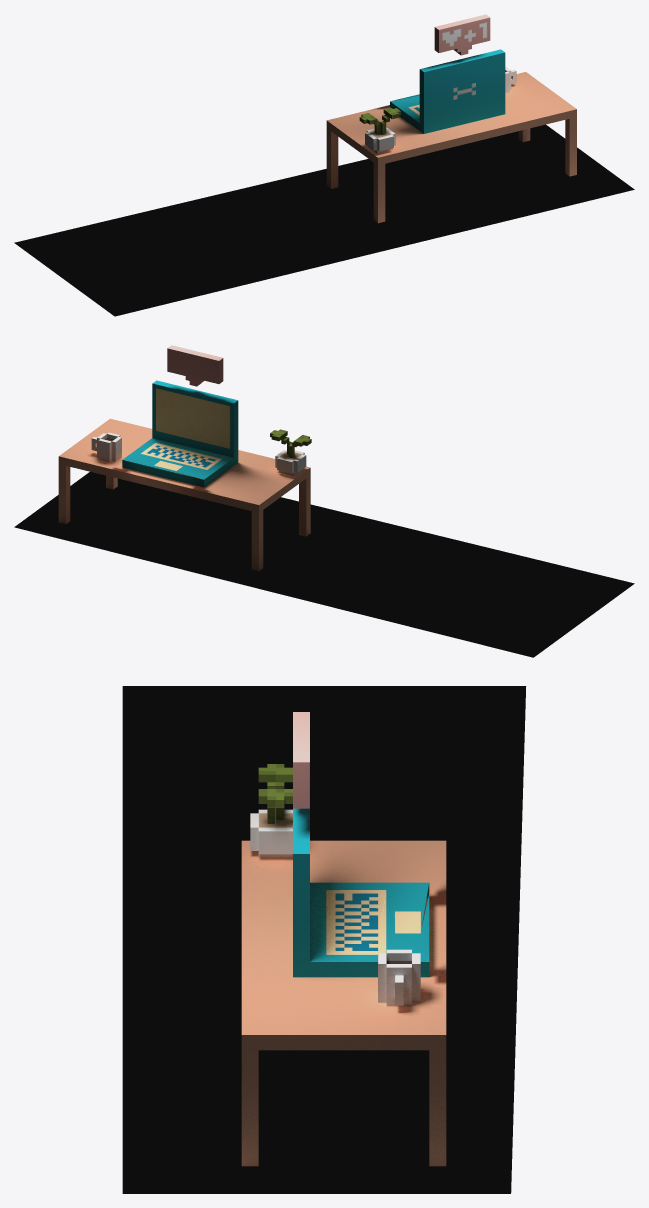
Rendered from ship.glb.
3 renders of one model, top to bottom at view 1: azimuth 30°, elevation 25°; view 2: azimuth 150°, elevation 25°; view 3: azimuth 270°, elevation 25°, orthographic. The views are drawn at different scales.
Parts seen in each view (by area): view 1: Plane, main; view 2: Plane, main; view 3: Plane, main.
Part boxes in pixels (<box>): Plane: <box>14,124,634,316</box>; main: <box>326,14,576,223</box>; Plane: <box>14,471,634,657</box>; main: <box>58,345,311,570</box>; Plane: <box>122,686,526,1193</box>; main: <box>241,712,446,1166</box>.
Bounding box in the file's own units: 14.1 × 4.3 × 4.73.
Materials: 2 (2 with a texture image).
